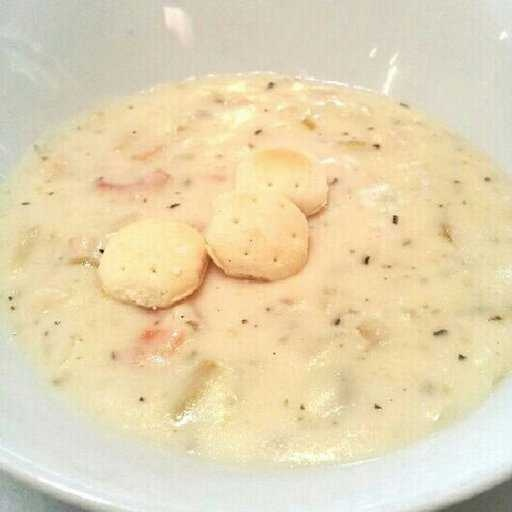soup: (18, 74, 500, 436)
